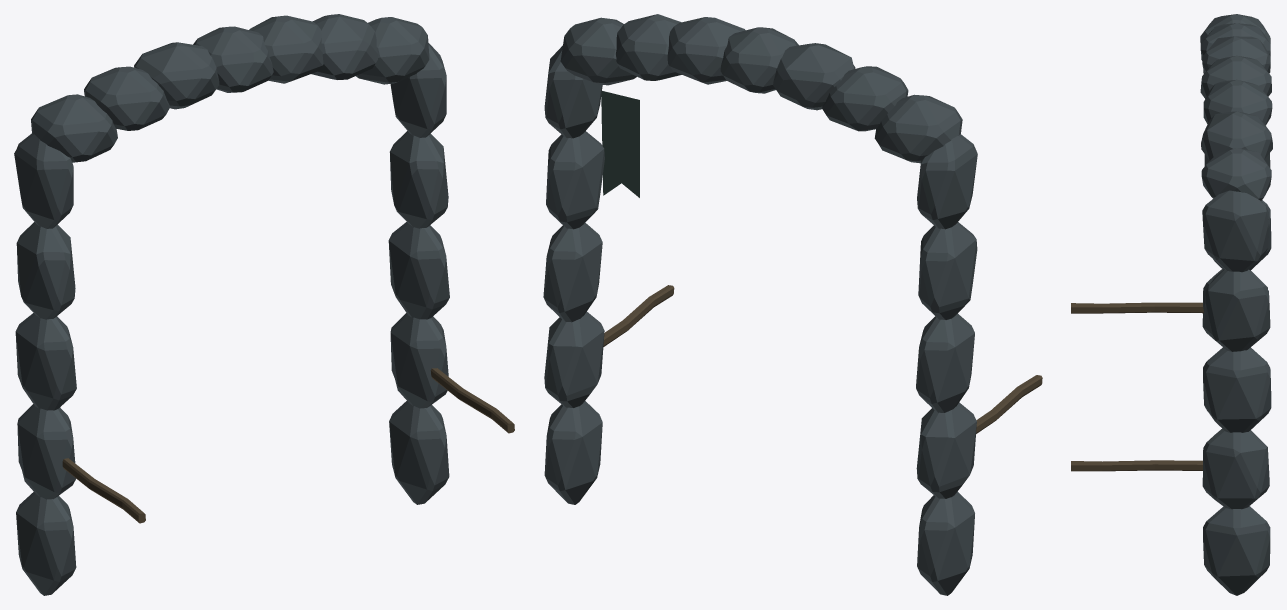
Rendered from rest-threshold.glb.
3 renders of one model, left to right at view 1: azimuth 30°, elevation 25°; view 2: azimuth 150°, elevation 25°; view 3: azimuth 270°, elevation 25°, orthographic. The views are drawn at different scales.
Parts seen in each view (by area): view 1: Stone, Wood; view 2: Stone, Cloth, Wood; view 3: Stone, Wood.
Boxes of the visible parts, x1,y1,x2,y2 form: Stone: (14, 14, 449, 595); Wood: (62, 368, 514, 523); Stone: (543, 14, 977, 595); Cloth: (601, 91, 639, 197); Wood: (603, 285, 1042, 433); Stone: (1200, 14, 1272, 595); Wood: (1071, 302, 1203, 471).
Size of the model in its own units: 2.05 by 2.42 by 0.9733.
